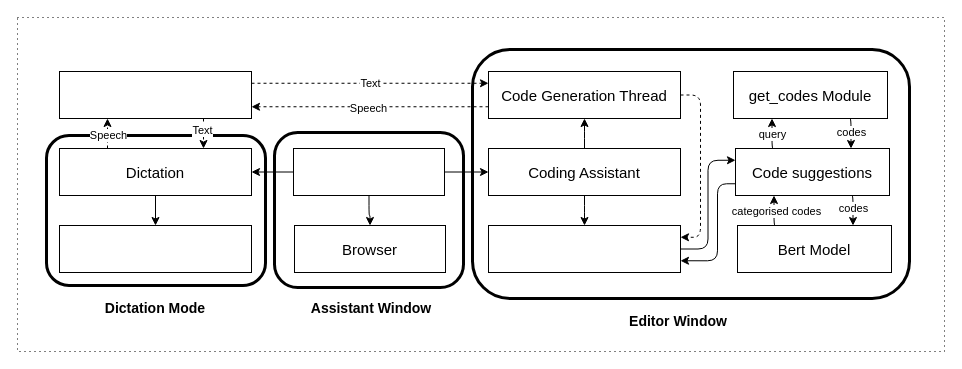
This 962x369 diagram has some shape labels left out. Each missing label, with the centre of its shape:
"Assistant" belongs at (x=368, y=172).
"Editor" belongs at (x=584, y=248).
"Keyboard" belongs at (x=155, y=248).
"Speech Recognition API" belongs at (x=155, y=94).
